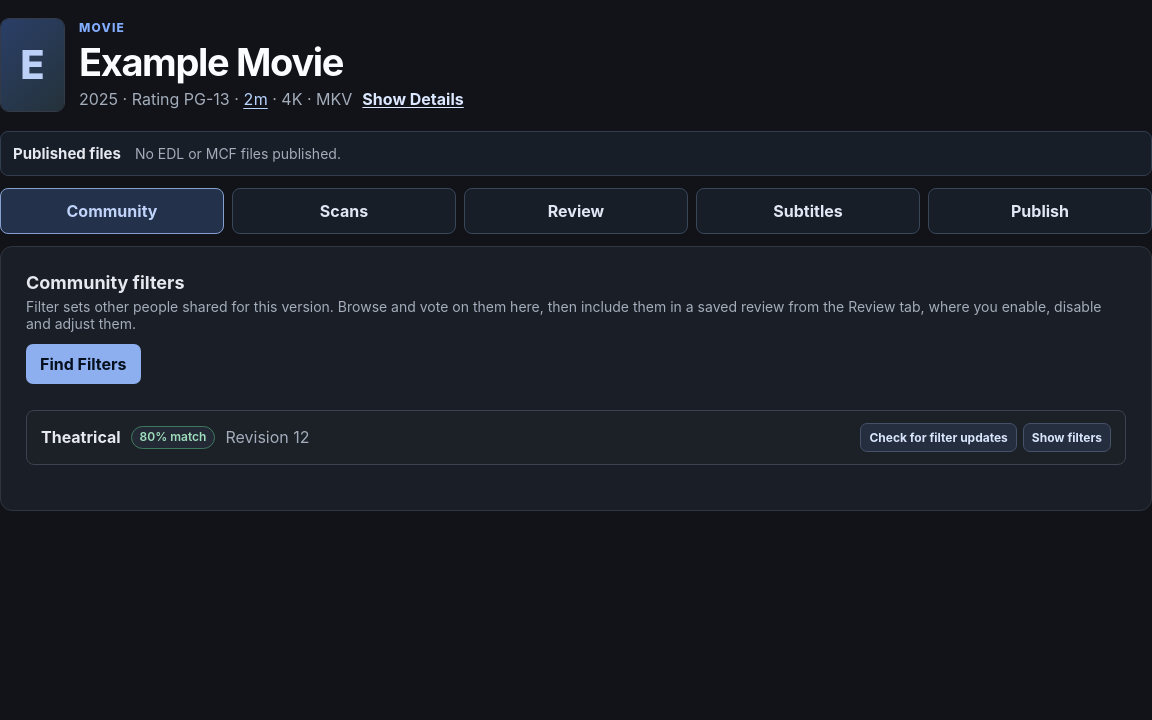
Test: shows the read-only Community tab: filters, votes and the update check, with no decisions or update review
Click the button "Show filters" at [1067, 438], box [1023,423,1111,452]
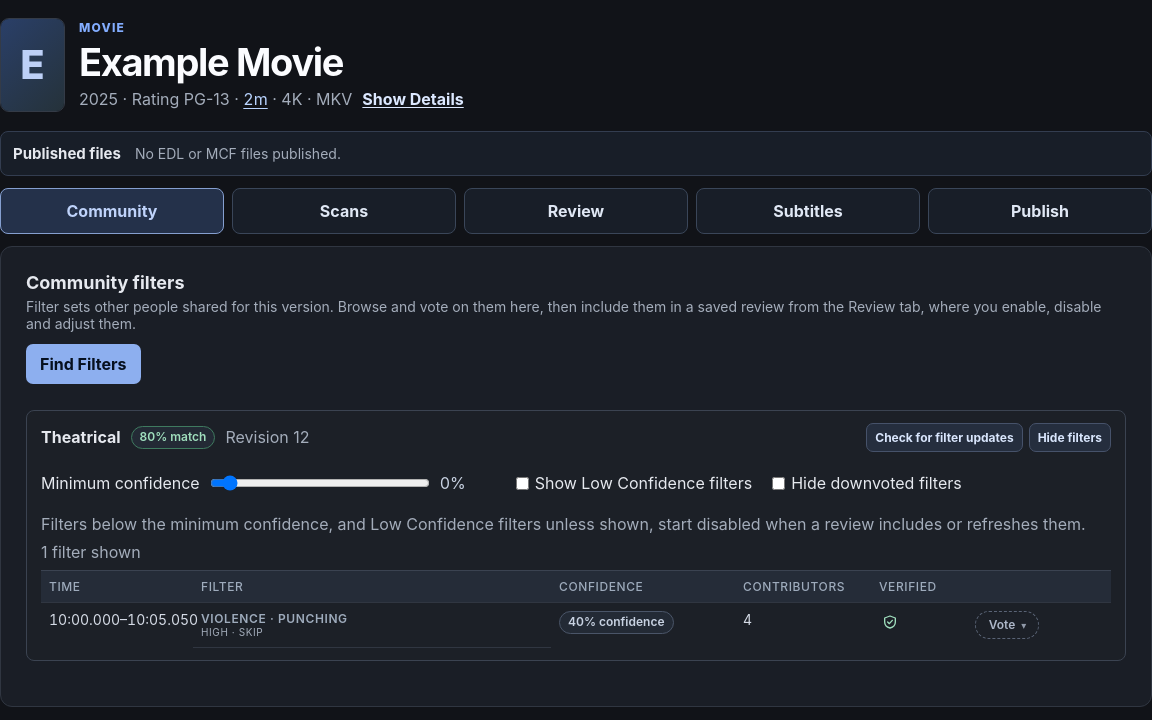
Result: the button with aria-label "Your vote: none. Change vote for " is shown at [975,611,1039,639]
Result: the checkbox labelled "Hide downvoted filters" is shown at [772,476,785,490]
Click the button "Check for filter updates" at [944, 438], box [866,423,1023,452]
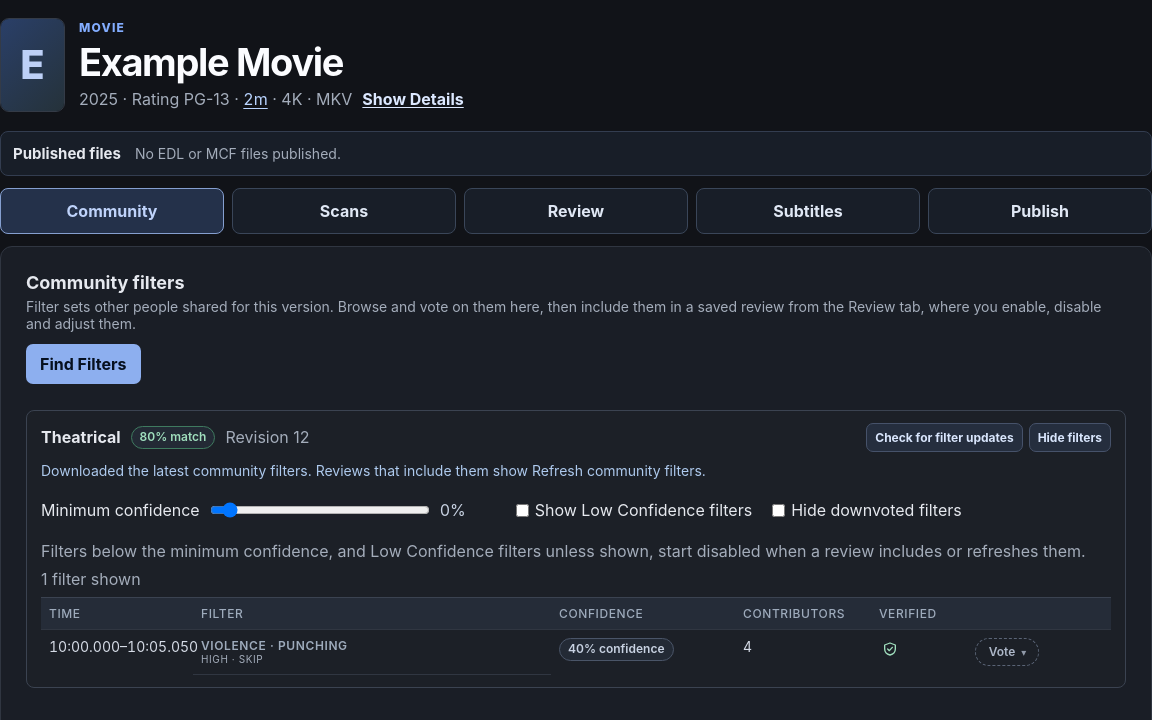
Result: the text "Downloaded the latest community filters" is shown at [41,462,706,479]
